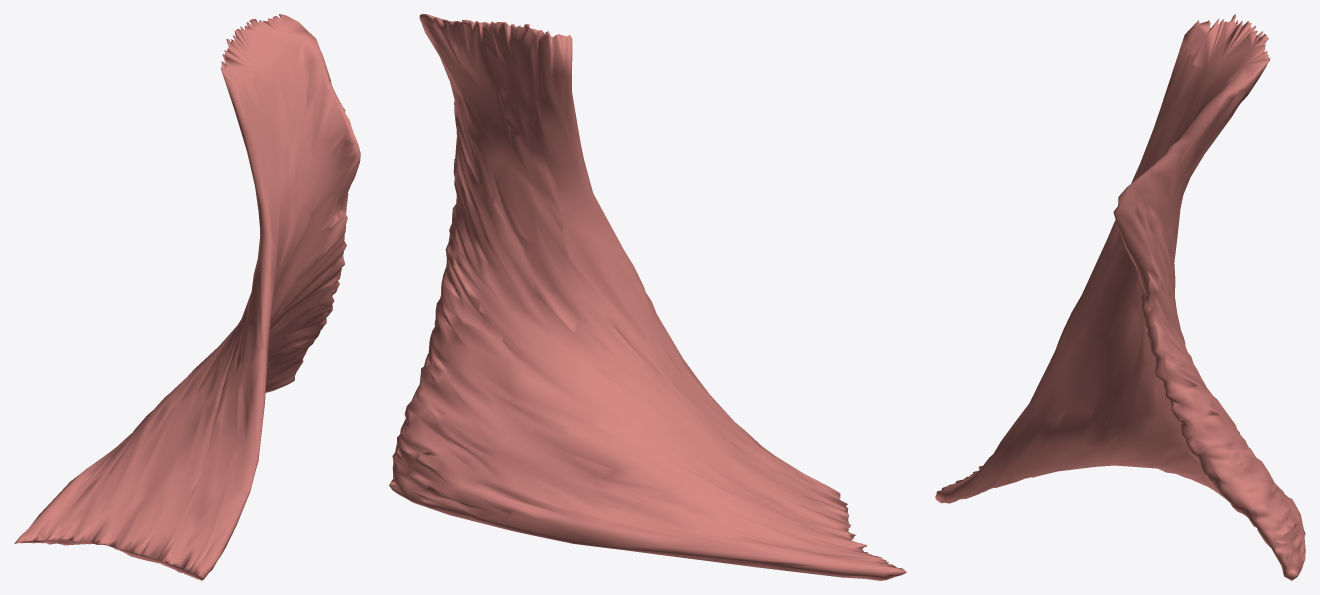
3 views of the same model, side by side, from view 1: azimuth 30°, elevation 25°; view 2: azimuth 150°, elevation 25°; view 3: azimuth 270°, elevation 25° (orthographic). The views are drawn at different scales.
Parts seen in each view (by area): view 1: ZA_70cdd4466a0d05c8; view 2: ZA_70cdd4466a0d05c8; view 3: ZA_70cdd4466a0d05c8.
Part boxes in pixels (box(x1,y1,x2,y2)): ZA_70cdd4466a0d05c8: box(14, 14, 360, 580); ZA_70cdd4466a0d05c8: box(389, 14, 906, 580); ZA_70cdd4466a0d05c8: box(935, 14, 1305, 580).
Bounding box in the file's own units: 0.1351 × 0.1592 × 0.0921.
